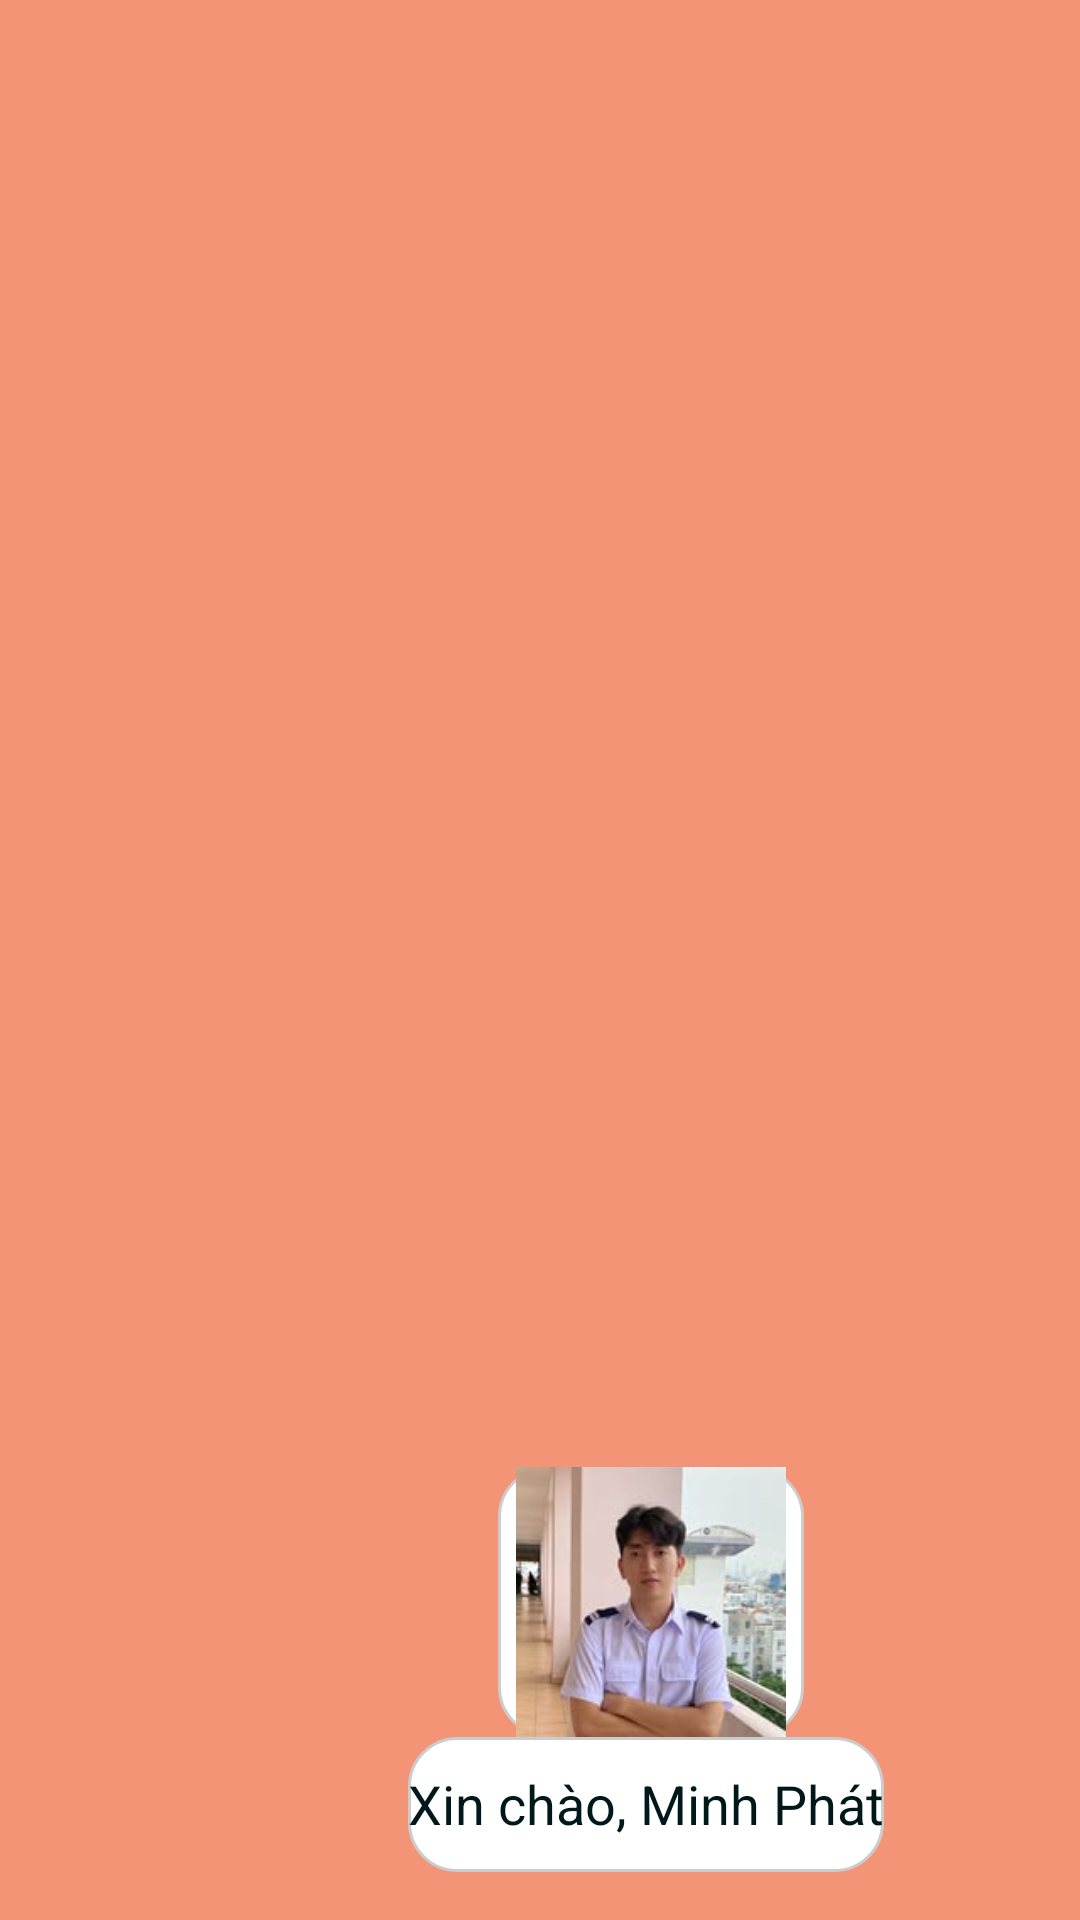

Named icons in this screenshot (1080×1920) and their bounding boxes, (x1, y1, x2, y2):
User Avatar: (498, 1467, 804, 1737)
